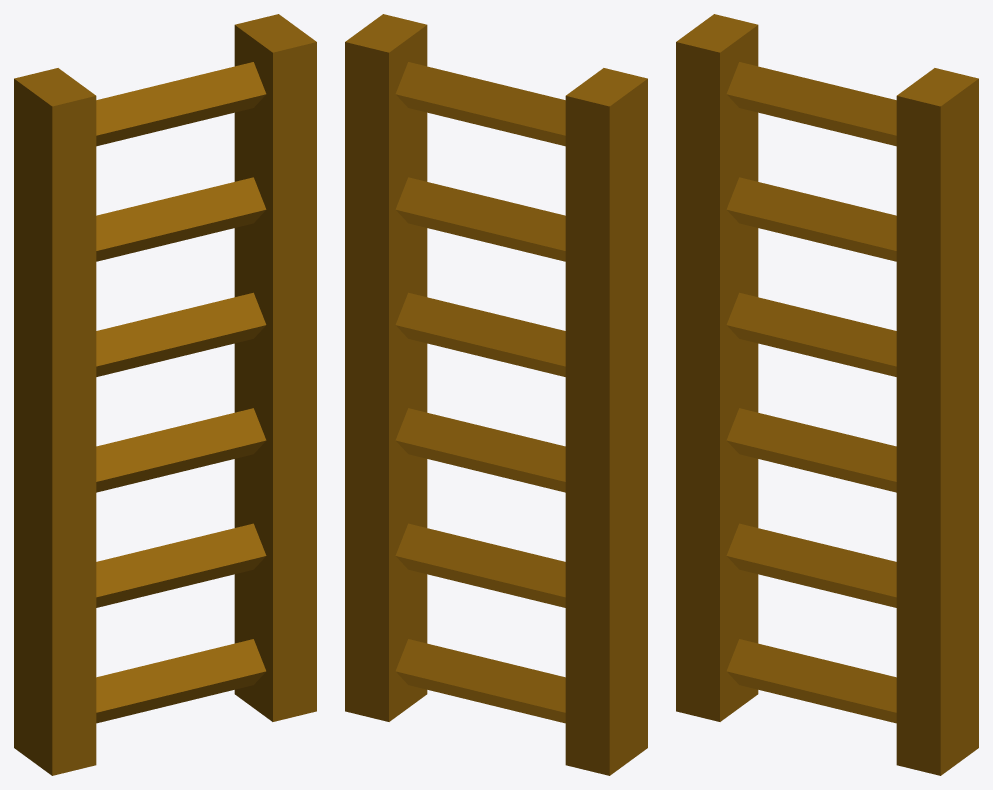
File: obj_tower_ladder_1_0.obj
The picture shows the model from 3 angles, left to right: view 1: azimuth 30°, elevation 25°; view 2: azimuth 150°, elevation 25°; view 3: azimuth 330°, elevation 25°; orthographic projection.
Size of the model in its own units: 0.75 by 1.81 by 0.1875.
